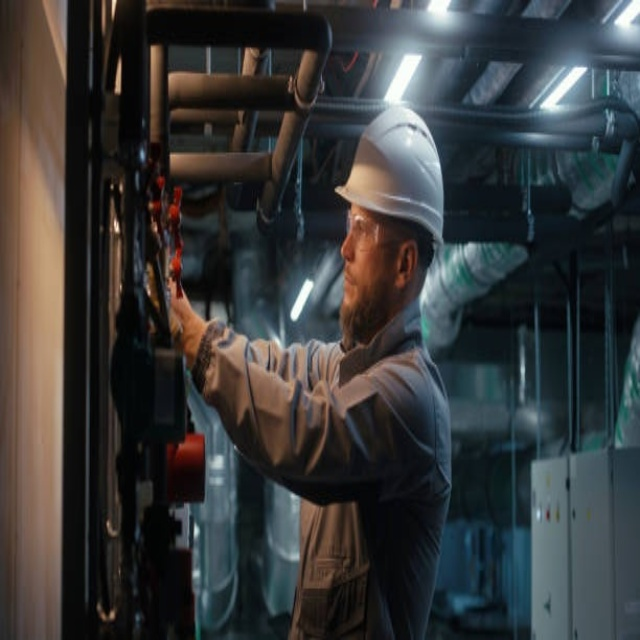Gafas: (346, 210, 408, 250)
Sin_mascara: (341, 267, 363, 321)
